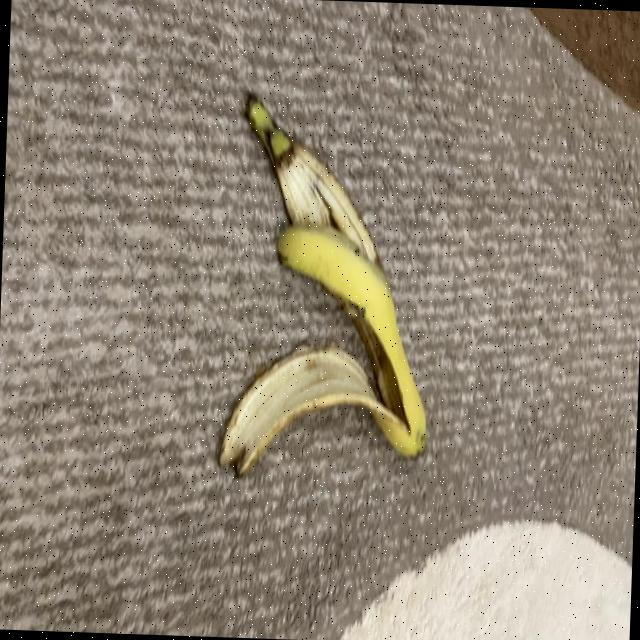banana-peel: (214, 88, 438, 482), (266, 222, 434, 456), (215, 341, 412, 484), (235, 88, 388, 267)
